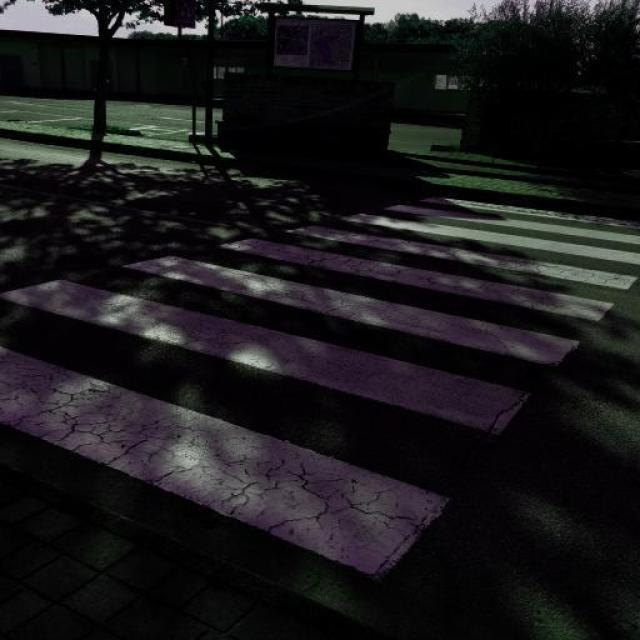crosswalk: (6, 192, 640, 584)
